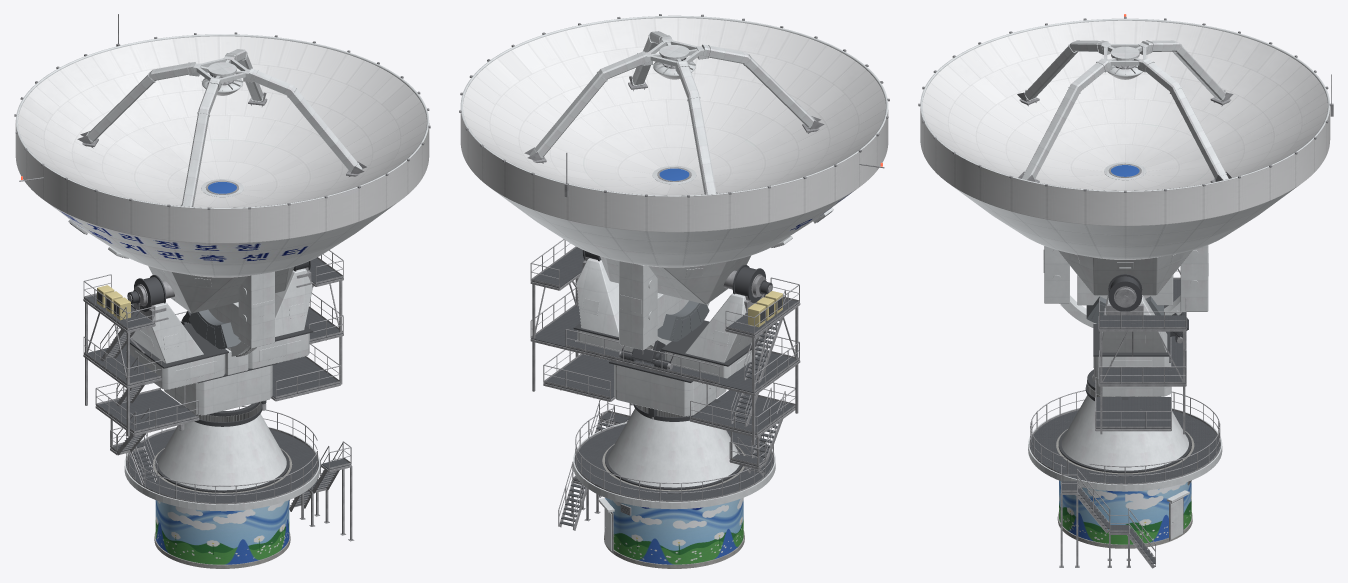
File: sejong22m_m.glb
The picture shows the model from 3 angles, left to right: view 1: azimuth 30°, elevation 25°; view 2: azimuth 150°, elevation 25°; view 3: azimuth 270°, elevation 25°; orthographic projection. The views are drawn at different scales.
Parts seen in each view (by area): view 1: Reflector, Dish_RimBand, Access_Decks, Dish_Back, Pedestal_Cone, Base_Mural, Balcony, El_Girders, Alidade_Box, Hub_Frame, Dish_Lip, Yoke_L (+17 smaller); view 2: Reflector, Access_Decks, Dish_RimBand, Dish_Back, Pedestal_Cone, Base_Mural, Balcony, El_Girders, Alidade_Box, Hub_Frame, Yoke_R, Dish_Lip (+15 smaller); view 3: Reflector, Dish_RimBand, Dish_Back, Access_Decks, Balcony, Base_Mural, Pedestal_Cone, El_Girders, Hub_Frame, Ground_Stair, Dish_Lip, Quadrupod_0 (+13 smaller).
Part boxes in pixels (bbox=[...]): Reflector: bbox=[18, 36, 426, 207]; Dish_RimBand: bbox=[15, 123, 429, 243]; Access_Decks: bbox=[83, 250, 343, 484]; Dish_Back: bbox=[47, 202, 396, 277]; Pedestal_Cone: bbox=[158, 414, 286, 490]; Base_Mural: bbox=[155, 500, 289, 564]; Balcony: bbox=[124, 406, 320, 511]; El_Girders: bbox=[208, 271, 274, 348]; Alidade_Box: bbox=[164, 365, 272, 415]; Hub_Frame: bbox=[148, 266, 294, 313]; Dish_Lip: bbox=[15, 34, 429, 208]; Yoke_L: bbox=[131, 303, 203, 363]; Reflector: bbox=[463, 18, 885, 196]; Access_Decks: bbox=[530, 239, 800, 477]; Dish_RimBand: bbox=[460, 110, 888, 232]; Dish_Back: bbox=[494, 190, 854, 267]; Pedestal_Cone: bbox=[608, 408, 739, 487]; Base_Mural: bbox=[605, 498, 743, 564]; Balcony: bbox=[573, 408, 775, 509]; El_Girders: bbox=[619, 261, 688, 350]; Alidade_Box: bbox=[614, 364, 726, 416]; Hub_Frame: bbox=[600, 255, 750, 304]; Yoke_R: bbox=[576, 258, 618, 336]; Dish_Lip: bbox=[460, 15, 888, 196]; Reflector: bbox=[922, 20, 1327, 191]; Dish_RimBand: bbox=[920, 106, 1330, 225]; Dish_Back: bbox=[952, 186, 1297, 259]; Access_Decks: bbox=[1095, 268, 1186, 434]; Balcony: bbox=[1028, 390, 1222, 491]; Base_Mural: bbox=[1059, 480, 1191, 544]; Pedestal_Cone: bbox=[1061, 395, 1188, 470]; El_Girders: bbox=[1043, 245, 1208, 311]; Hub_Frame: bbox=[1058, 250, 1192, 295]; Ground_Stair: bbox=[1059, 464, 1155, 568]; Dish_Lip: bbox=[920, 18, 1329, 191]; Quadrupod_0: bbox=[1140, 58, 1228, 179].
Bounding box in the file's own units: 23.82 × 28.22 × 22.52.
Materials: 22 (11 with a texture image).
